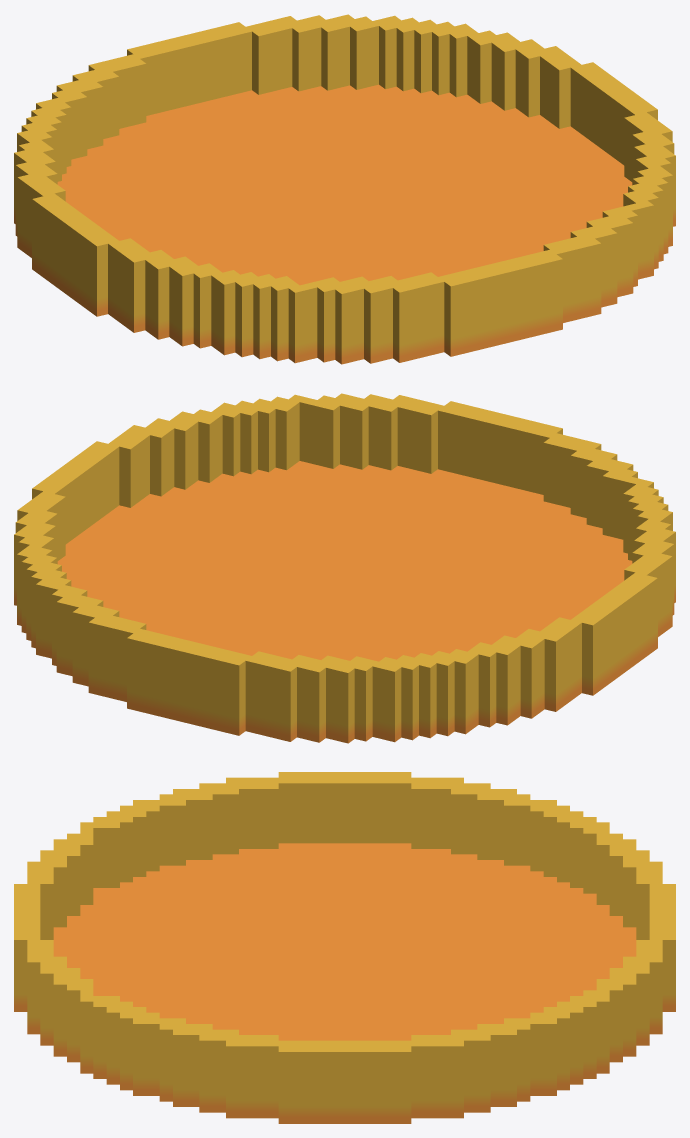
Rendered from space_ship.fbx.
3 renders of one model, top to bottom at view 1: azimuth 30°, elevation 25°; view 2: azimuth 150°, elevation 25°; view 3: azimuth 270°, elevation 25°, orthographic. The views are drawn at different scales.
Parts seen in each view (by area): view 1: space_ship; view 2: space_ship; view 3: space_ship.
Boxes of the visible parts, x1,y1,x2,y2 form: space_ship: (14,14,675,364); space_ship: (14,393,675,743); space_ship: (14,772,675,1123).
Size of the model in its own units: 50 by 6 by 50.
